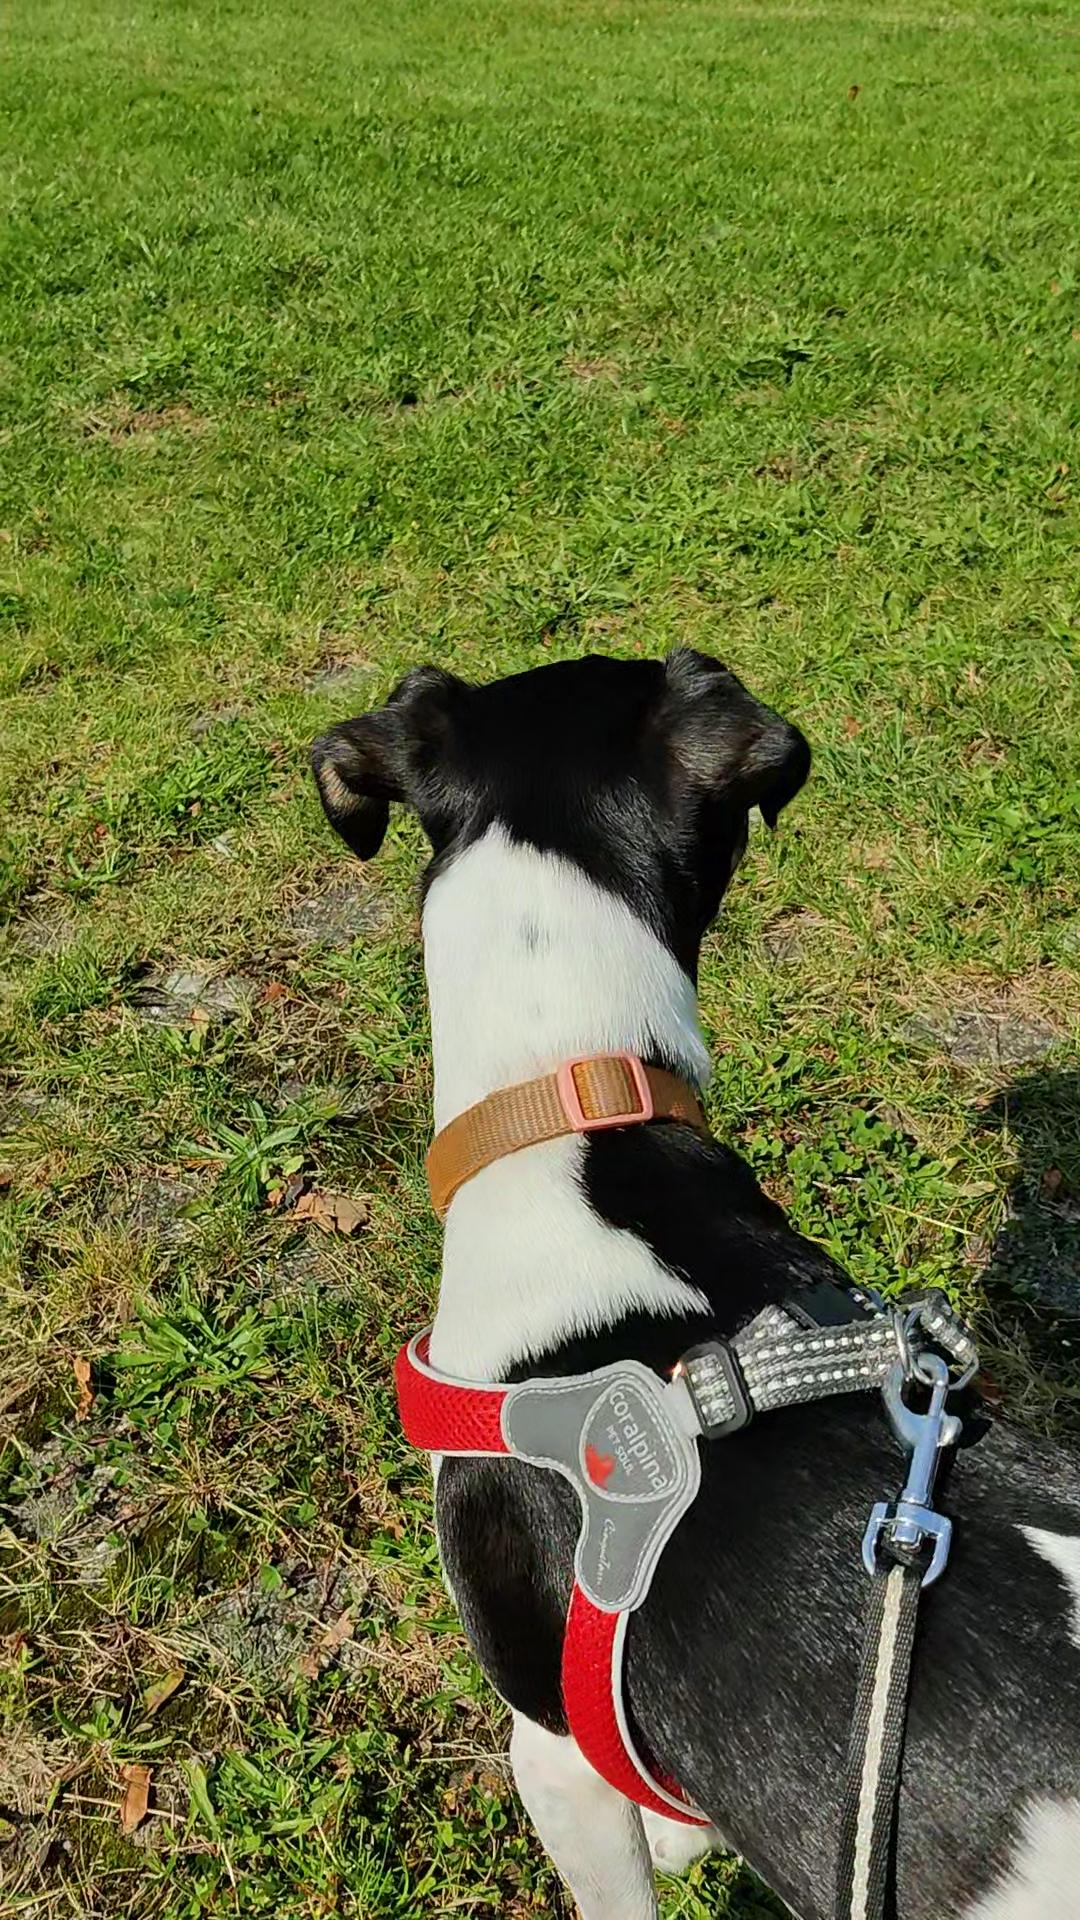Dog: (295, 621, 1079, 1919)
